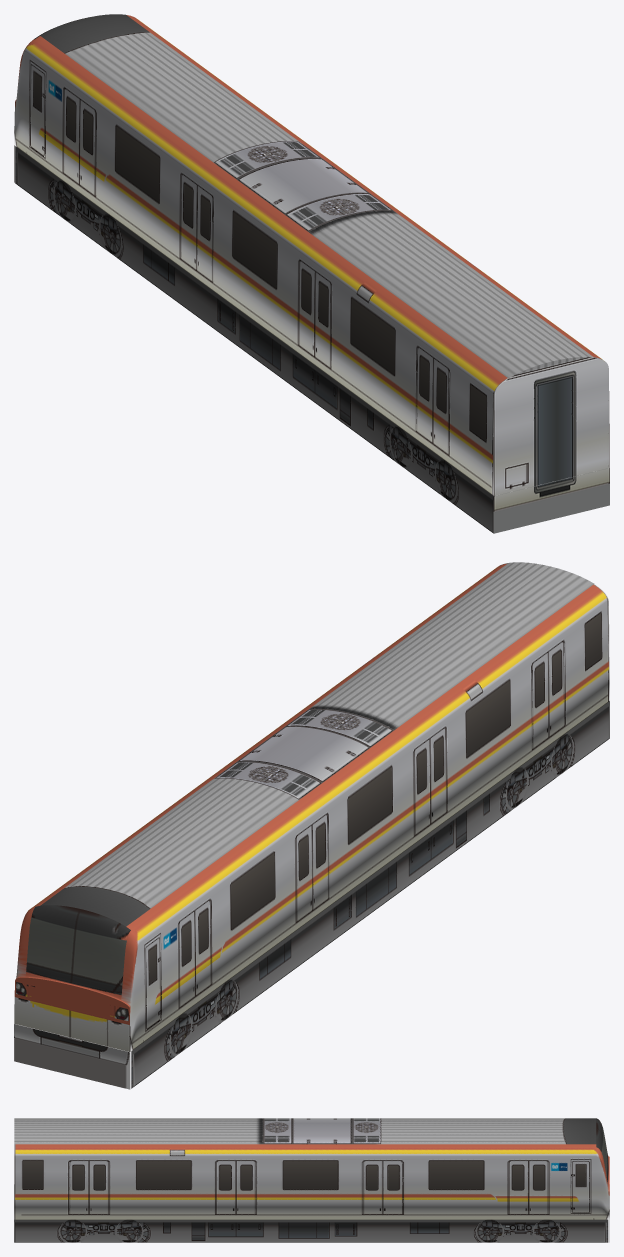
The model's file is car10.glb.
3 renders of one model, top to bottom at view 1: azimuth 30°, elevation 25°; view 2: azimuth 150°, elevation 25°; view 3: azimuth 270°, elevation 25°, orthographic. The views are drawn at different scales.
Visible parts, largest first — view 1: tokyometro-17000-car2; view 2: tokyometro-17000-car2; view 3: tokyometro-17000-car2.
Part boxes in pixels (x1=…): tokyometro-17000-car2: x1=14, y1=14, x2=609, y2=533; tokyometro-17000-car2: x1=14, y1=562, x2=609, y2=1089; tokyometro-17000-car2: x1=14, y1=1118, x2=609, y2=1242.
Size of the model in its own units: 2.8 by 3.63 by 20.03.
9 materials, 8 textured.
